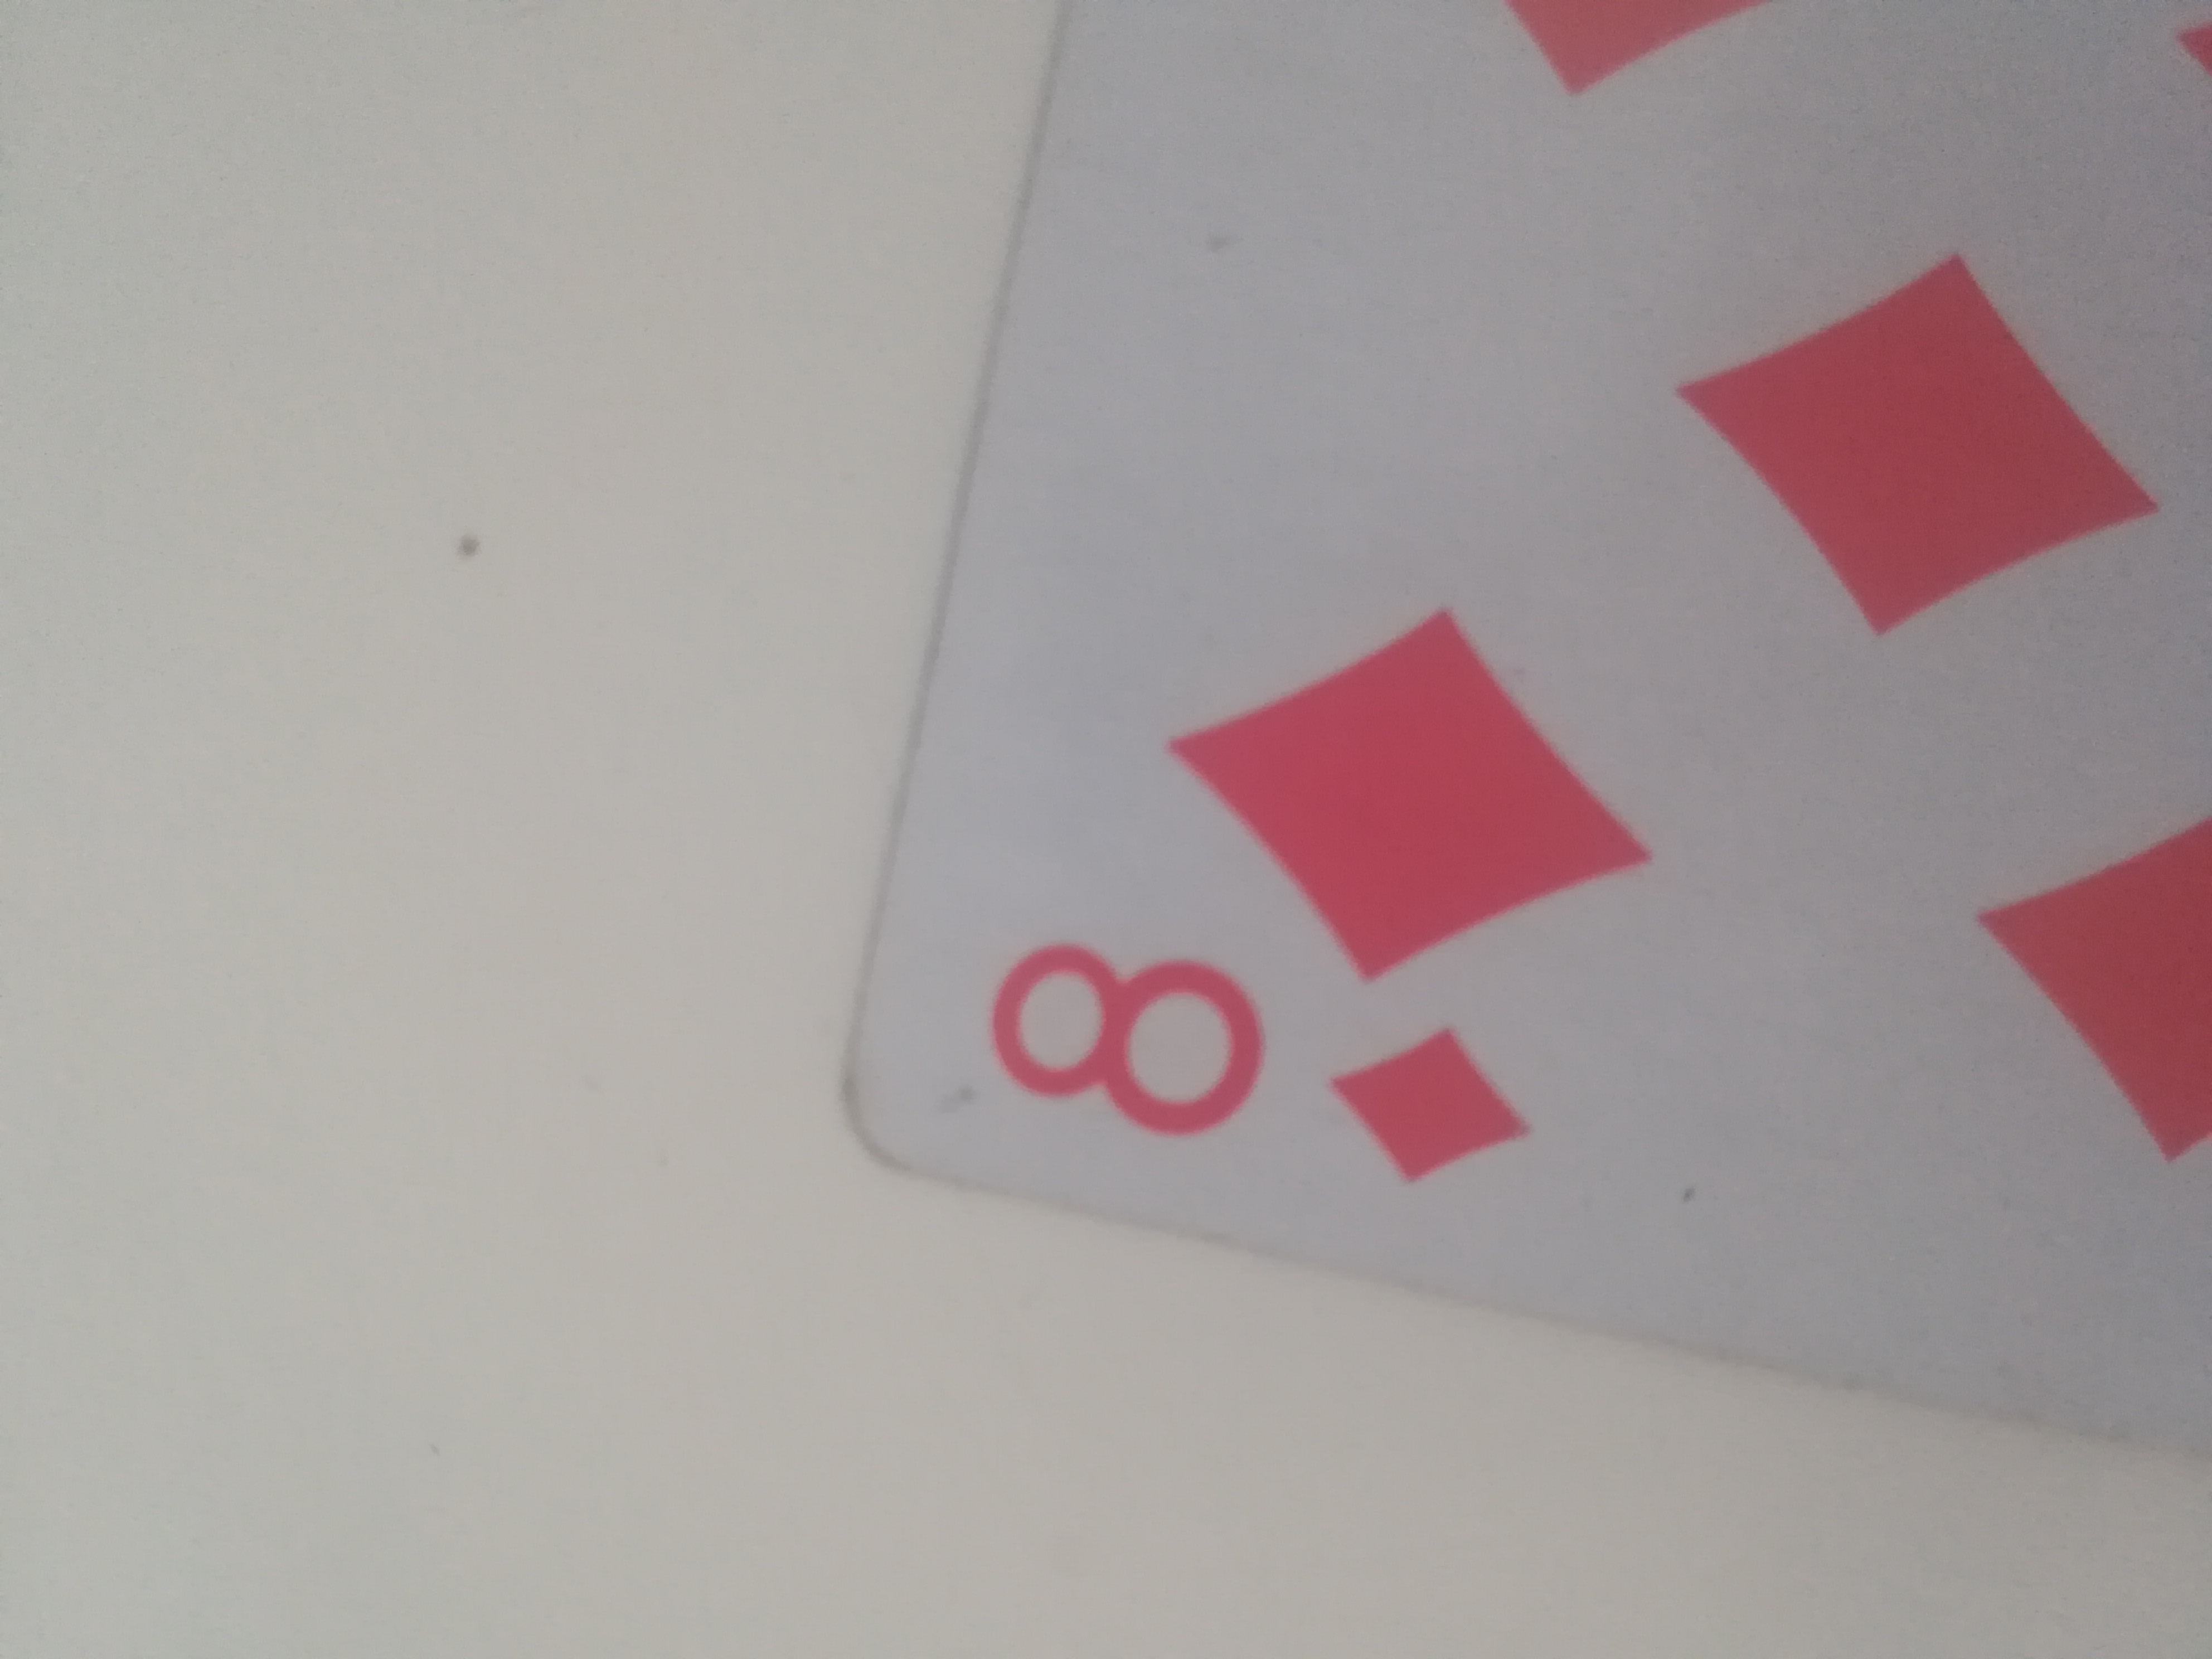8D: (857, 3, 2212, 1446)
